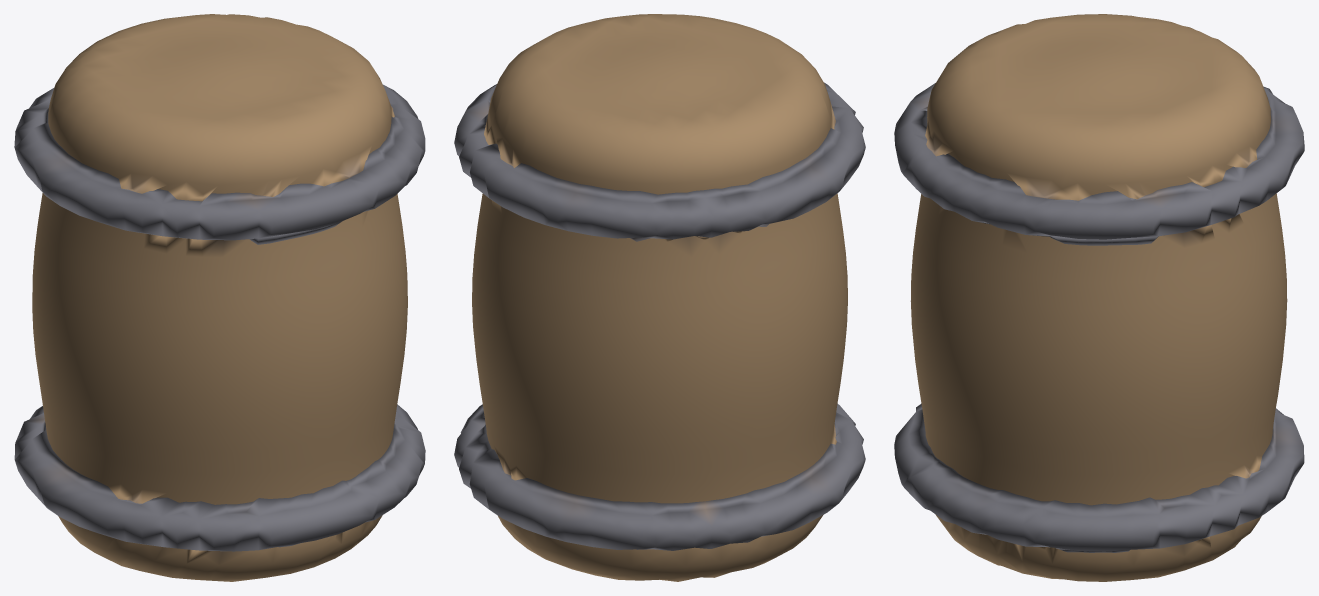
The model's file is barrel.glb.
3 views of the same model, side by side, from view 1: azimuth 30°, elevation 25°; view 2: azimuth 150°, elevation 25°; view 3: azimuth 270°, elevation 25° (orthographic).
Parts seen in each view (by area): view 1: barrel; view 2: barrel; view 3: barrel.
Boxes of the visible parts, x1,y1,x2,y2 form: barrel: [14, 14, 425, 581]; barrel: [454, 14, 865, 581]; barrel: [894, 14, 1304, 581].
Size of the model in its own units: 33.42 by 42.03 by 33.42.
